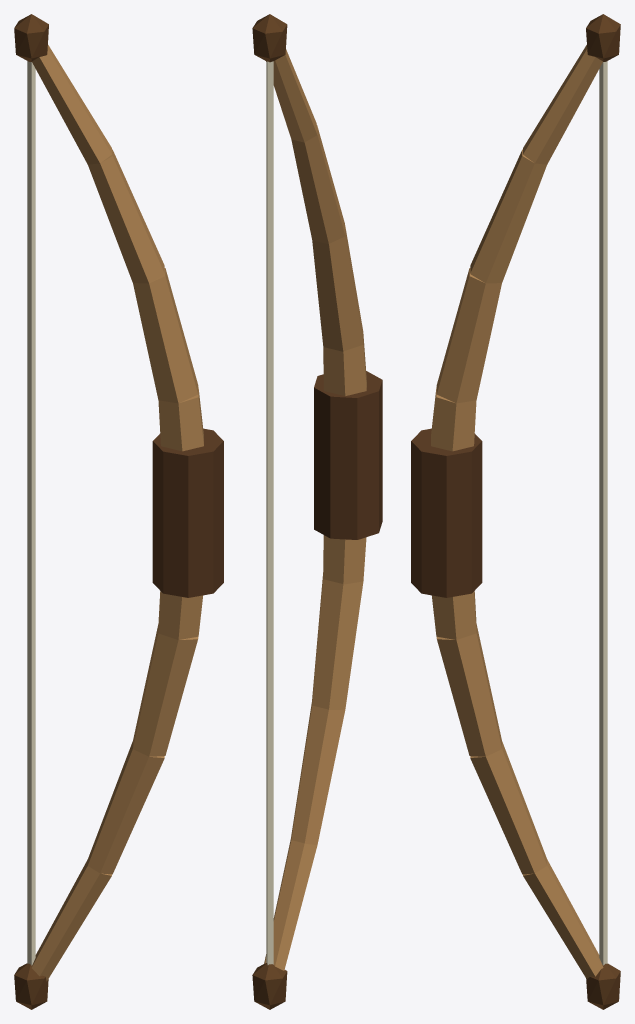
The model's file is held_shortbow.glb.
3 views of the same model, side by side, from view 1: azimuth 90°, elevation 25°; view 2: azimuth 150°, elevation 25°; view 3: azimuth 270°, elevation 25° (orthographic).
Parts seen in each view (by area): view 1: held_shortbow; view 2: held_shortbow; view 3: held_shortbow.
Boxes of the visible parts, left/top/right/bottom form: held_shortbow: left=14, top=14, right=223, bottom=1009; held_shortbow: left=252, top=14, right=382, bottom=1009; held_shortbow: left=411, top=14, right=620, bottom=1009.
Size of the model in its own units: 0.068 by 1.05 by 0.2007.
